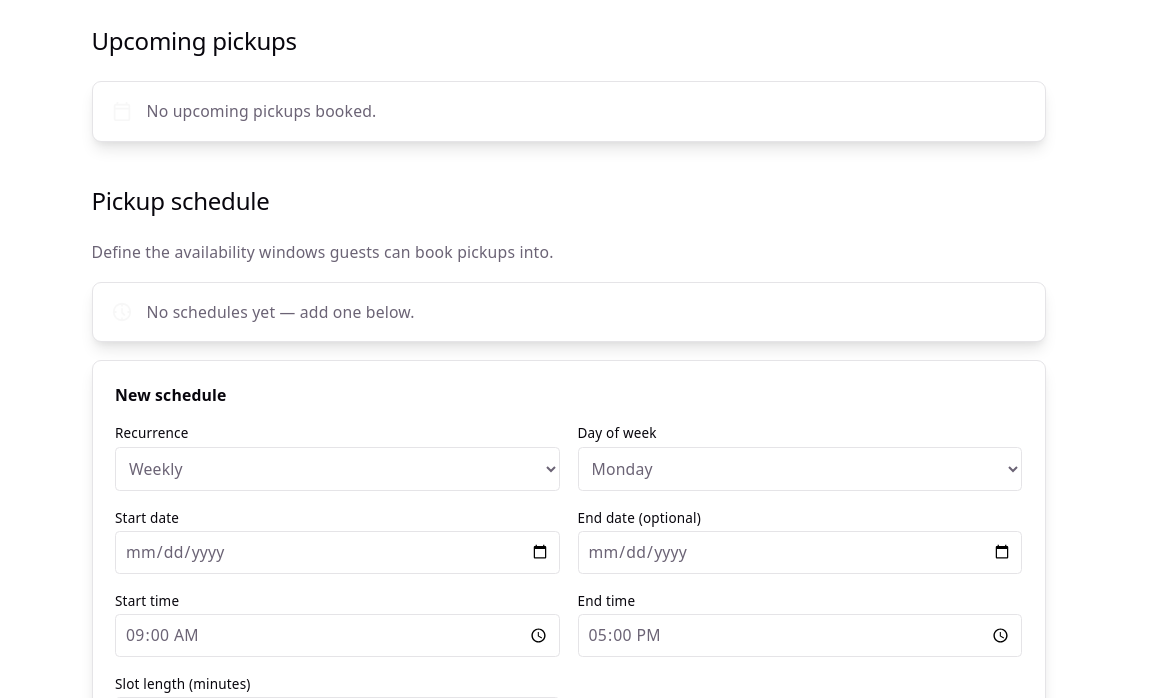
Scenario: <Returns /> › creates a schedule and sends a payload built from the generated client
The image size is (1152, 698).
Expected: the text "No schedules yet — add one below." is shown, [92,282,1046,342]
Step 1. Type "2099-01-15" into the date field labelled "Start date" → [337, 552], box [115,531,560,574]
(page scrolled)
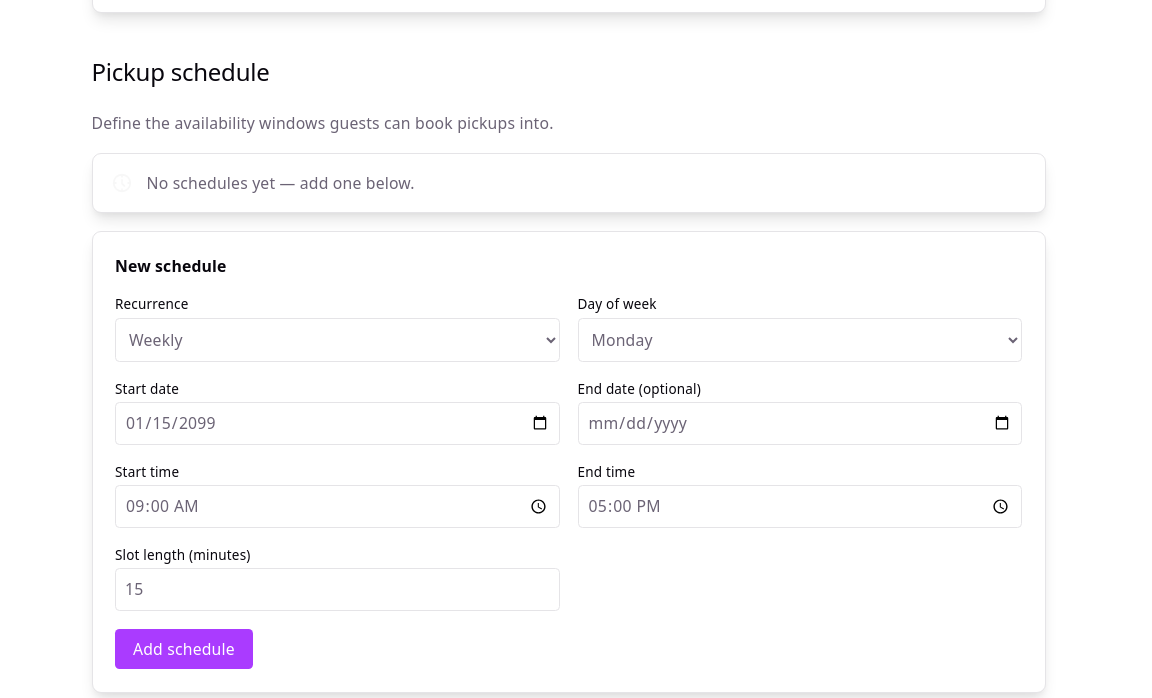
Step 2. Click the button "Add schedule" → [184, 649], box [115,629,253,669]
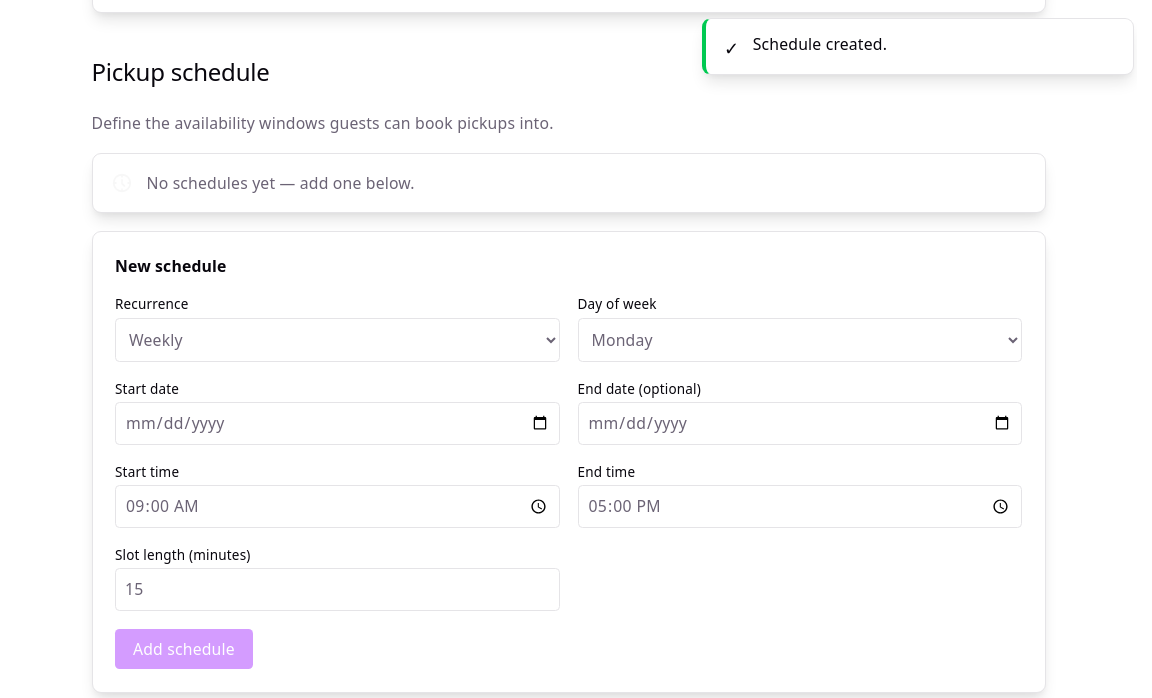
Expected: the text "Schedule created." is shown, [753,32,887,54]
